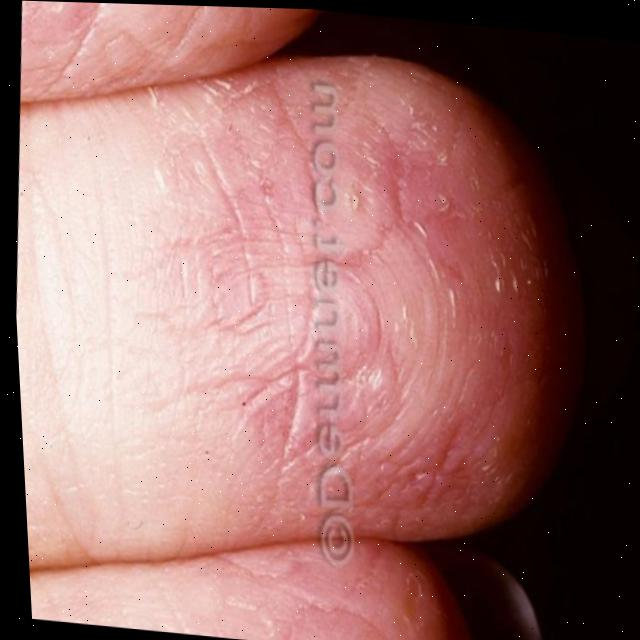Eczema: (190, 63, 577, 522)
